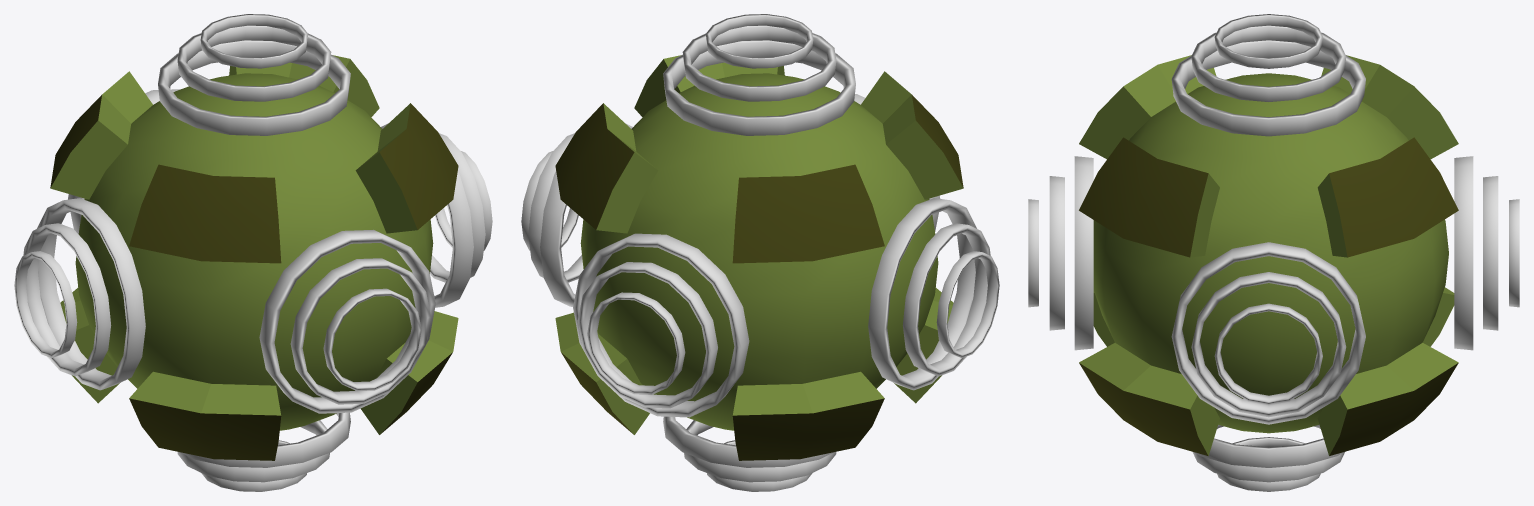
The model's file is Planet_4.fbx.
3 renders of one model, left to right at view 1: azimuth 30°, elevation 25°; view 2: azimuth 150°, elevation 25°; view 3: azimuth 270°, elevation 25°, orthographic.
Parts seen in each view (by area): view 1: polySurface1, pSphere12; view 2: polySurface1, pSphere12; view 3: polySurface1, pSphere12.
Boxes of the visible parts, x1,y1,x2,y2 form: polySurface1: (50,55,458,460); pSphere12: (14,14,492,491); polySurface1: (555,55,963,460); pSphere12: (521,14,999,491); polySurface1: (1079,55,1458,455); pSphere12: (1028,14,1519,491).
Bounding box in the file's own units: 48.46 × 47.24 × 48.68.
